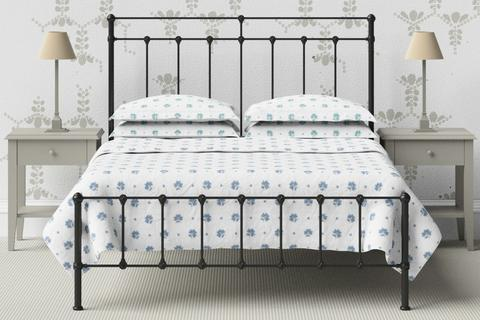bed: (47, 6, 433, 320)
